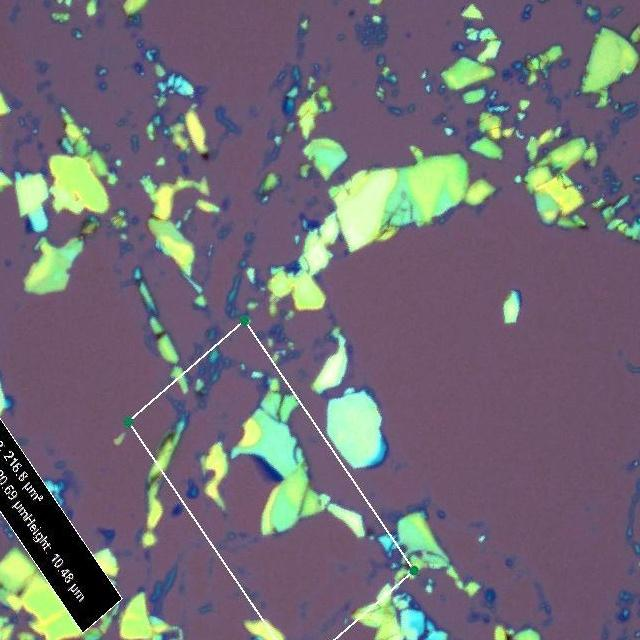monolayer-eWW4: (251, 457, 273, 484)
